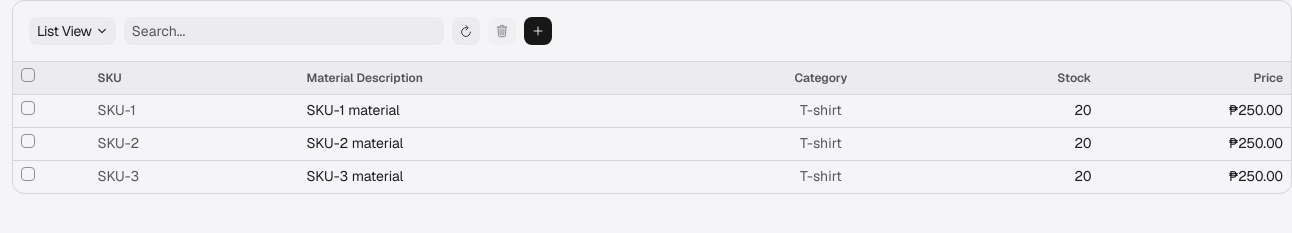
Test: InventoryTable — what the delete button hands to the page › hands over only the ticked rows
Click the checkbox named "Select SKU-1". click: (28, 108)
box: left=21, top=101, right=35, bottom=115
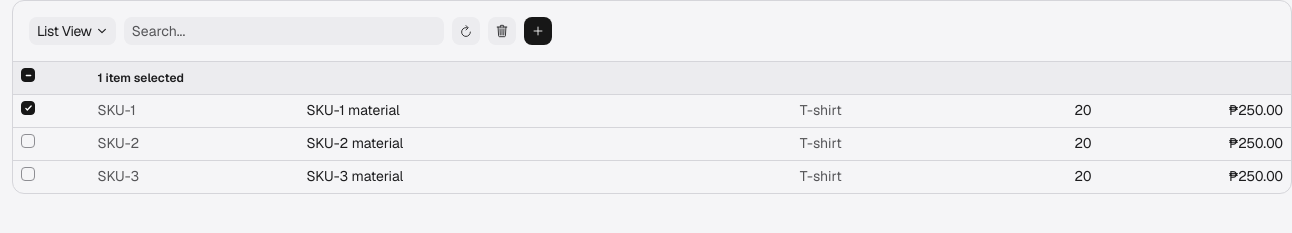
Click the checkbox named "Select SKU-3". click: (28, 174)
box: left=21, top=167, right=35, bottom=181
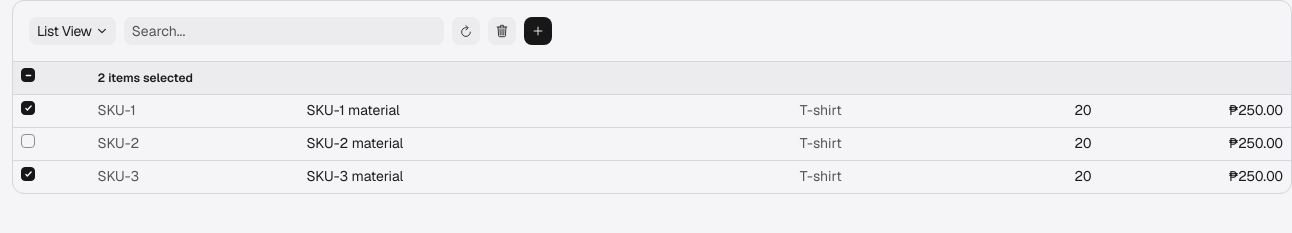
Click the button named "delete". click: (502, 31)
box: left=488, top=17, right=516, bottom=45
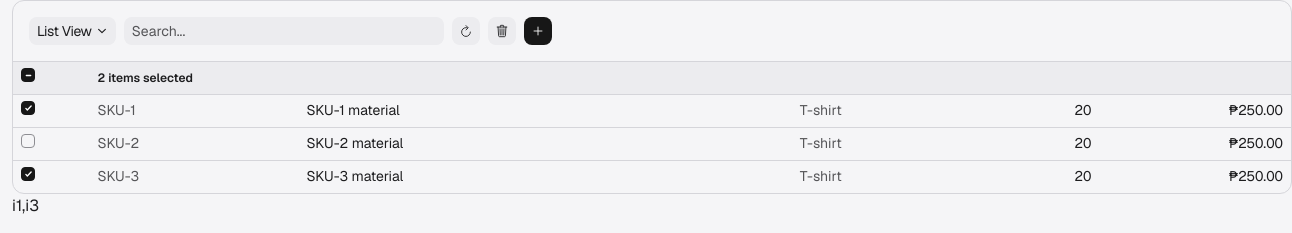
Check: the text with test id "delete-request" reads "i1,i3", box left=12, top=195, right=39, bottom=216
